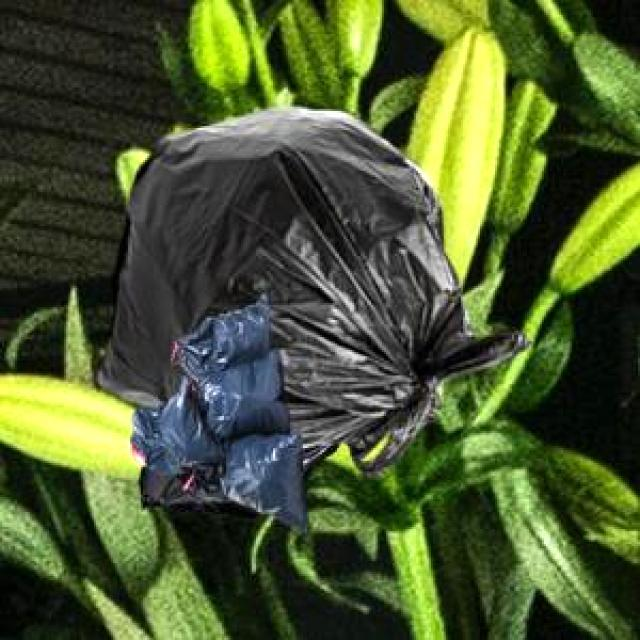Garbage_Bag: (93, 103, 528, 474), (128, 291, 305, 530), (138, 440, 336, 516)
